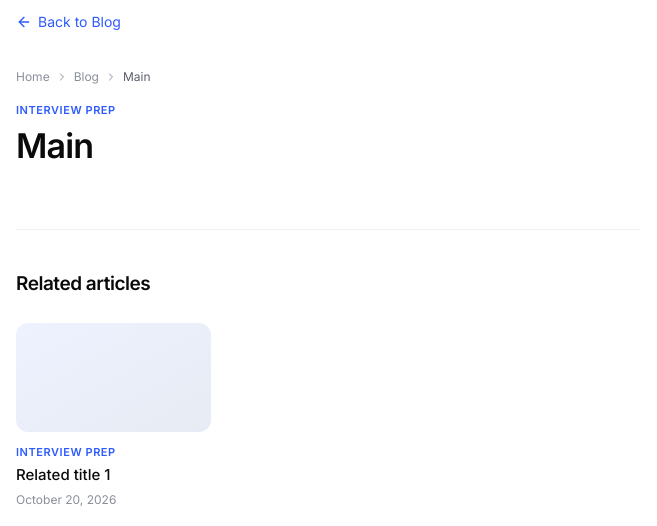
Test case: blog post — related articles › never shows the previous article's fallback list while the next one loads
Click the link "Interview Prep Related title 1 October 20, 2026" at point(113, 416), box [16,323,211,509]
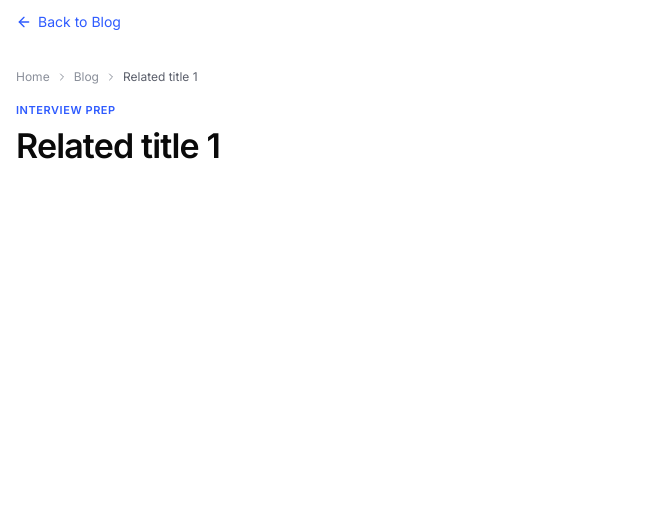
Check: the heading "Related articles" is gone
